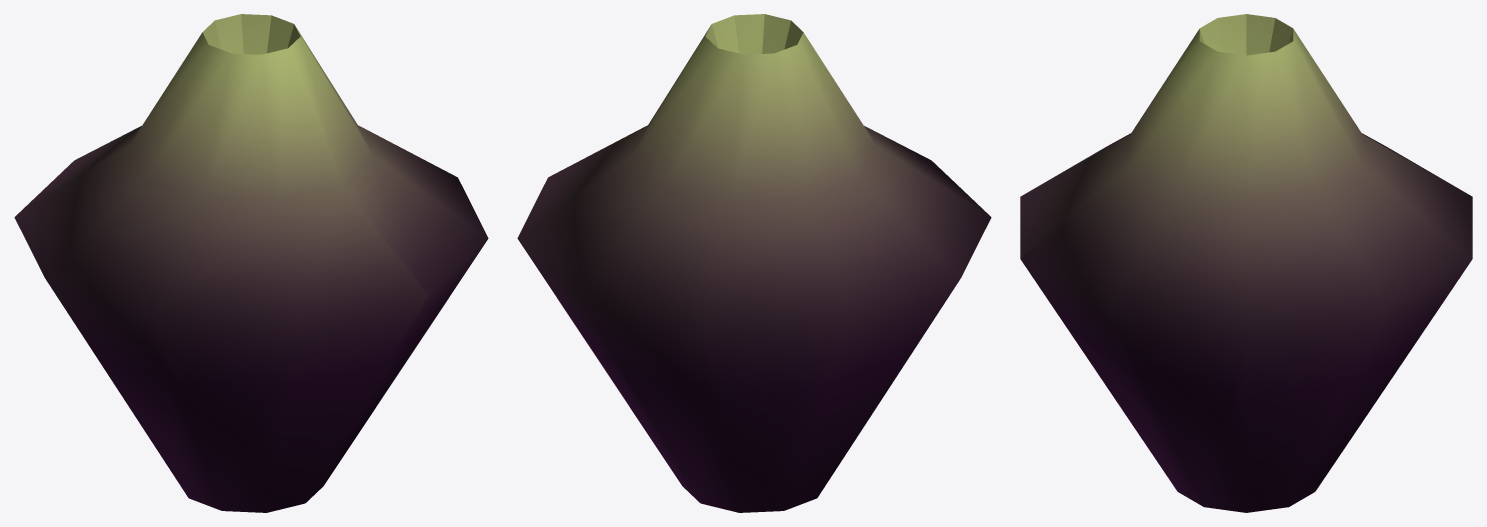
File: Coral05_LP.fbx
3 renders of one model, left to right at view 1: azimuth 30°, elevation 25°; view 2: azimuth 150°, elevation 25°; view 3: azimuth 270°, elevation 25°, orthographic.
Visible parts, largest first — view 1: pCylinder1; view 2: pCylinder1; view 3: pCylinder1.
Part boxes in pixels (box(x1,y1,x2,y2)): pCylinder1: box(14, 14, 488, 512); pCylinder1: box(517, 14, 991, 512); pCylinder1: box(1020, 14, 1472, 512).
Bounding box in the file's own units: 1.85 × 1.92 × 1.76.
